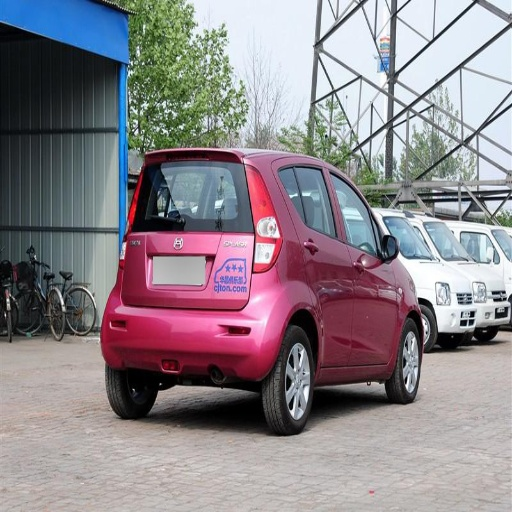back_bumper: (100, 271, 290, 381)
back_right_door: (290, 162, 354, 366)
trunk: (120, 216, 254, 310)
